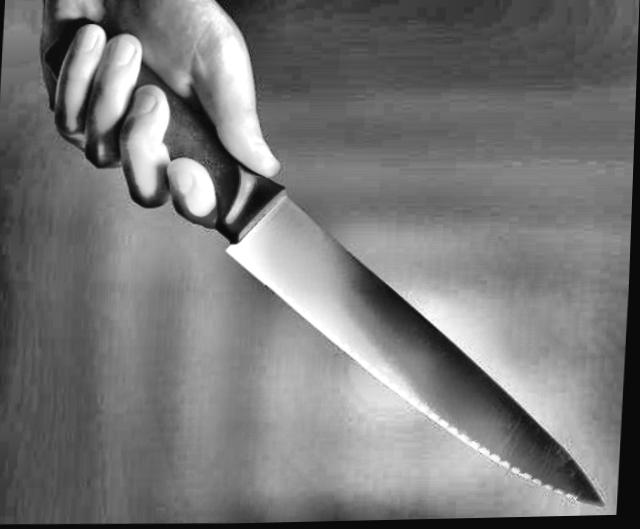knife: (24, 4, 639, 527)
